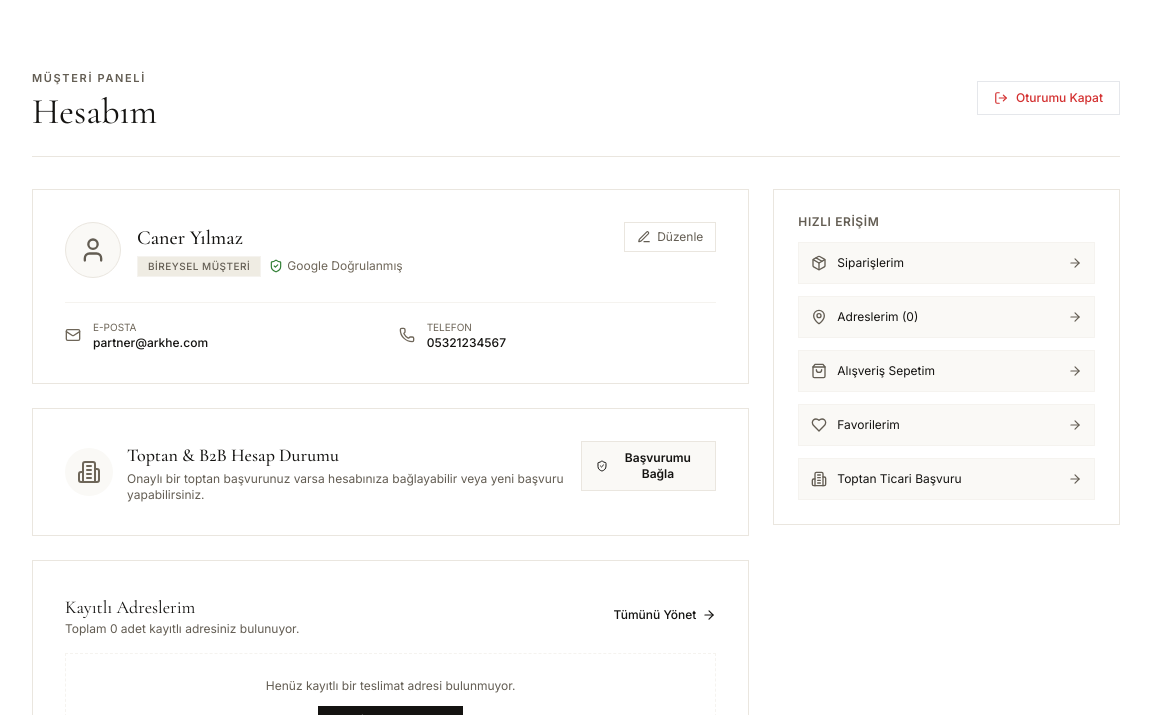
Test: Phase 3.8 Wholesale Identity & PayTR Checkout Flow › handles claimTradeApplication unapproved message and exception on AccountOverviewPage
What coordinates should you click on to do the following:
click the button "Başvurumu Bağla"
I would click on:
 (649, 466)
Its box is [582,441,716,491].
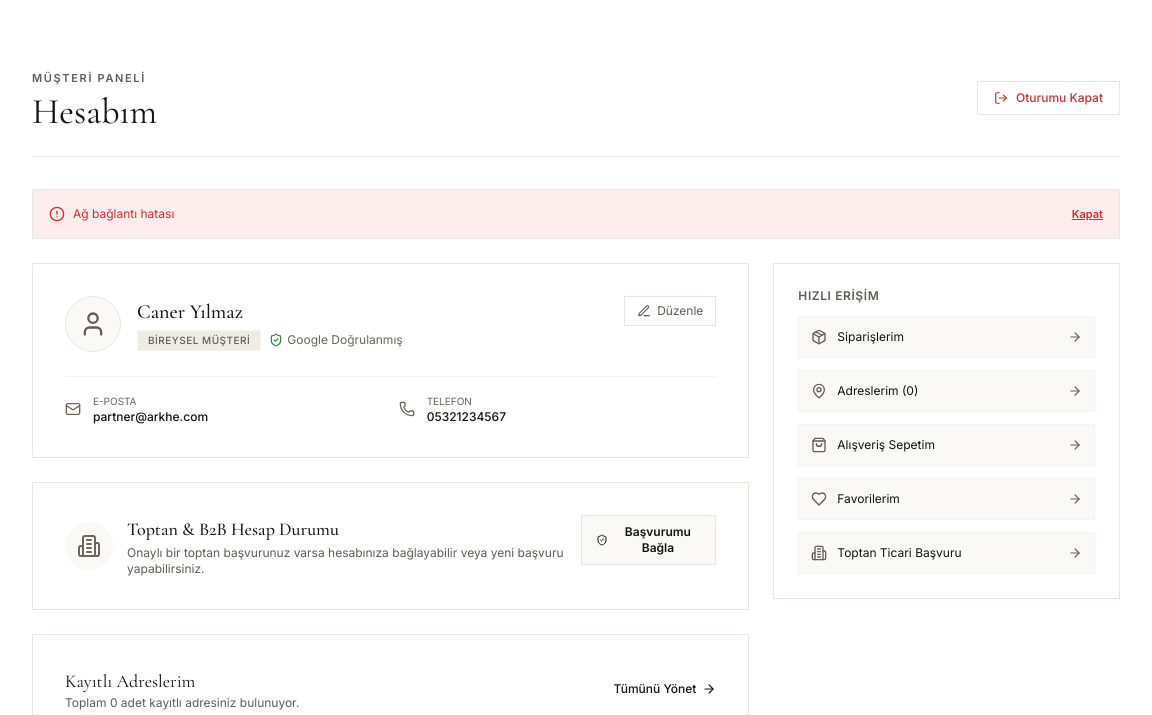
Check: the text "Ağ bağlantı hatası" is shown, box [73,206,174,222]
